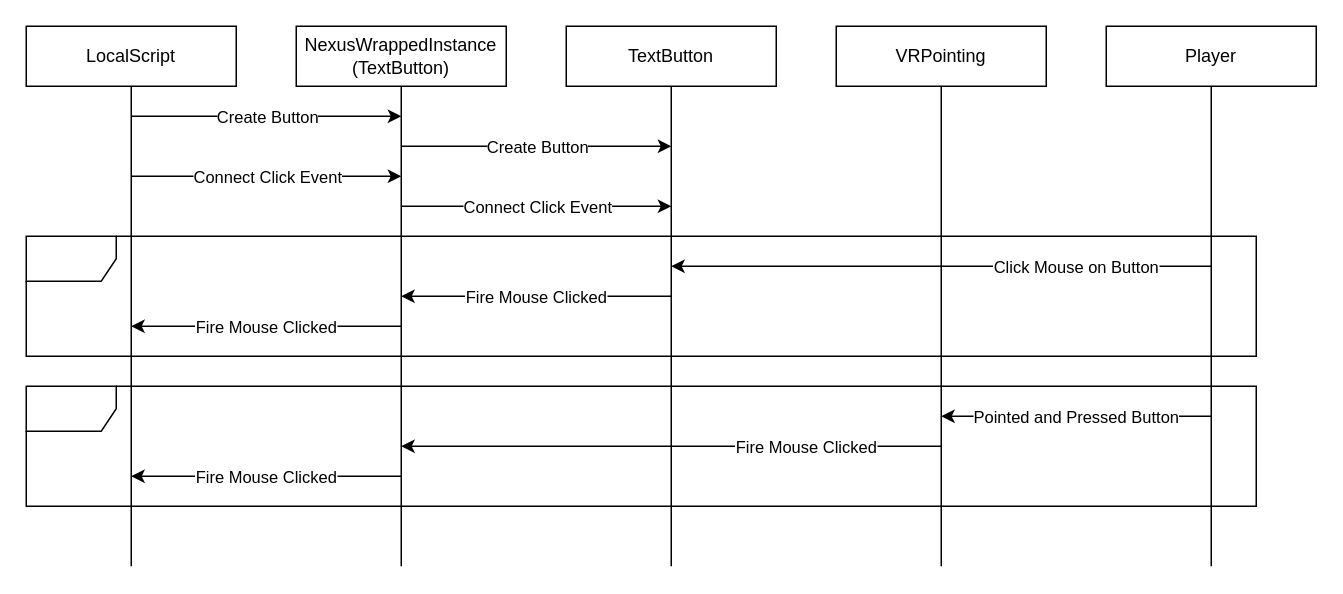
Image size: 1343x594. Some labels were removed from this diagram. The shapes that lost their labels are listed below. From the top down, each one's centre as x and y in pixels, then its label:
At (640,295): "Using Mouse".
At (640,445): "Using VR".
